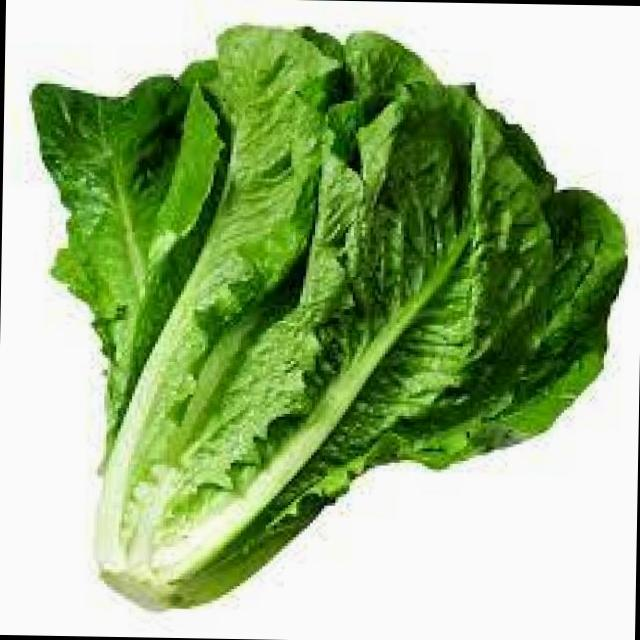Lettuce-Ready-to-Harvest: (32, 26, 624, 606)
